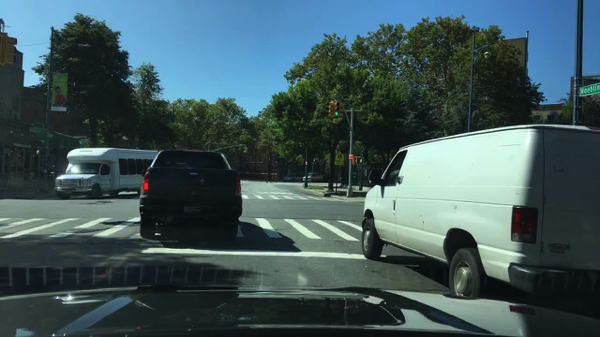bus: (55, 147, 160, 201)
car: (300, 172, 326, 183), (281, 173, 301, 182)
traffic light: (3, 33, 17, 68), (326, 101, 333, 119), (334, 101, 341, 118), (353, 156, 364, 165), (341, 103, 345, 119), (35, 147, 42, 154), (246, 147, 249, 155), (243, 147, 246, 154)
traffic sign: (577, 82, 599, 97), (335, 153, 345, 162), (30, 128, 46, 133), (335, 161, 345, 167), (47, 133, 54, 139)
truck: (359, 125, 599, 301), (140, 147, 241, 243)
